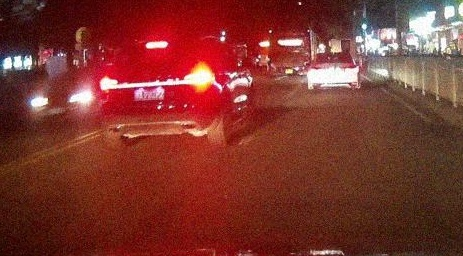L_light: (100, 77, 120, 91), (310, 64, 319, 69)
R_light: (183, 70, 214, 87), (343, 63, 355, 68)
T_light: (146, 41, 167, 48), (331, 53, 339, 56)
night-brake: (99, 38, 218, 149)
night-no: (308, 52, 358, 90)
